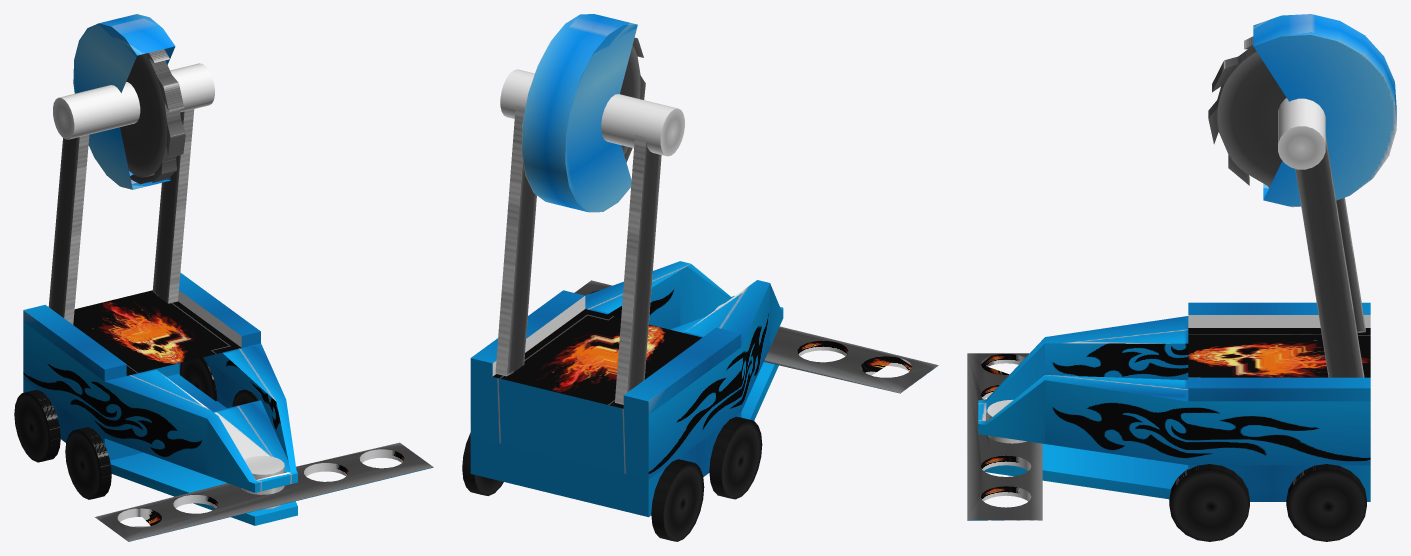
Rendered from destroy_enemy (4).fbx.
3 renders of one model, left to right at view 1: azimuth 30°, elevation 25°; view 2: azimuth 150°, elevation 25°; view 3: azimuth 270°, elevation 25°, orthographic. The views are drawn at different scales.
Visible parts, largest first — view 1: caar, polySurface202, bottom_ani, top_ani; view 2: caar, polySurface202, bottom_ani, top_ani; view 3: caar, polySurface202, bottom_ani, top_ani.
Boxes of the visible parts, bbox=[...] form: caar: bbox=[14, 272, 297, 525]; polySurface202: bbox=[48, 14, 214, 324]; bottom_ani: bbox=[95, 442, 433, 541]; top_ani: bbox=[120, 49, 185, 184]; caar: bbox=[462, 261, 783, 541]; polySurface202: bbox=[495, 14, 684, 404]; bottom_ani: bbox=[574, 280, 938, 393]; top_ani: bbox=[620, 37, 645, 162]; caar: bbox=[978, 302, 1370, 541]; polySurface202: bbox=[1253, 14, 1396, 377]; bottom_ani: bbox=[967, 353, 1042, 520]; top_ani: bbox=[1208, 36, 1286, 187].
Bounding box in the file's own units: 15.42 × 20.31 × 16.77.
